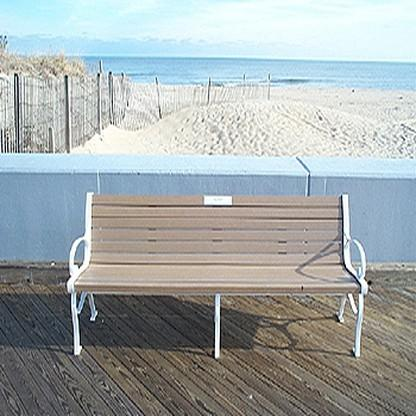obstacle: (55, 185, 379, 360)
